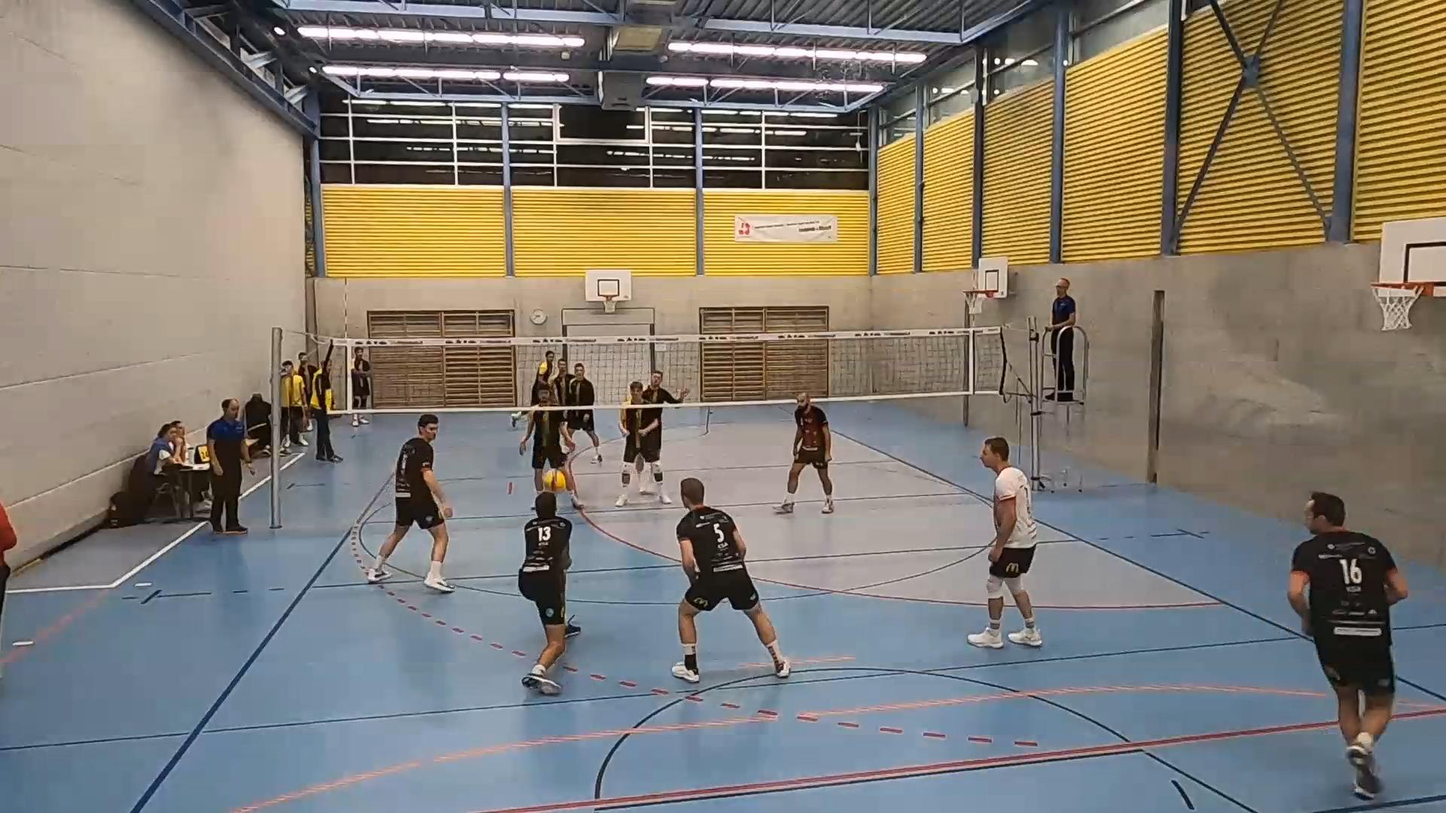ricezione: (519, 485, 582, 685)
